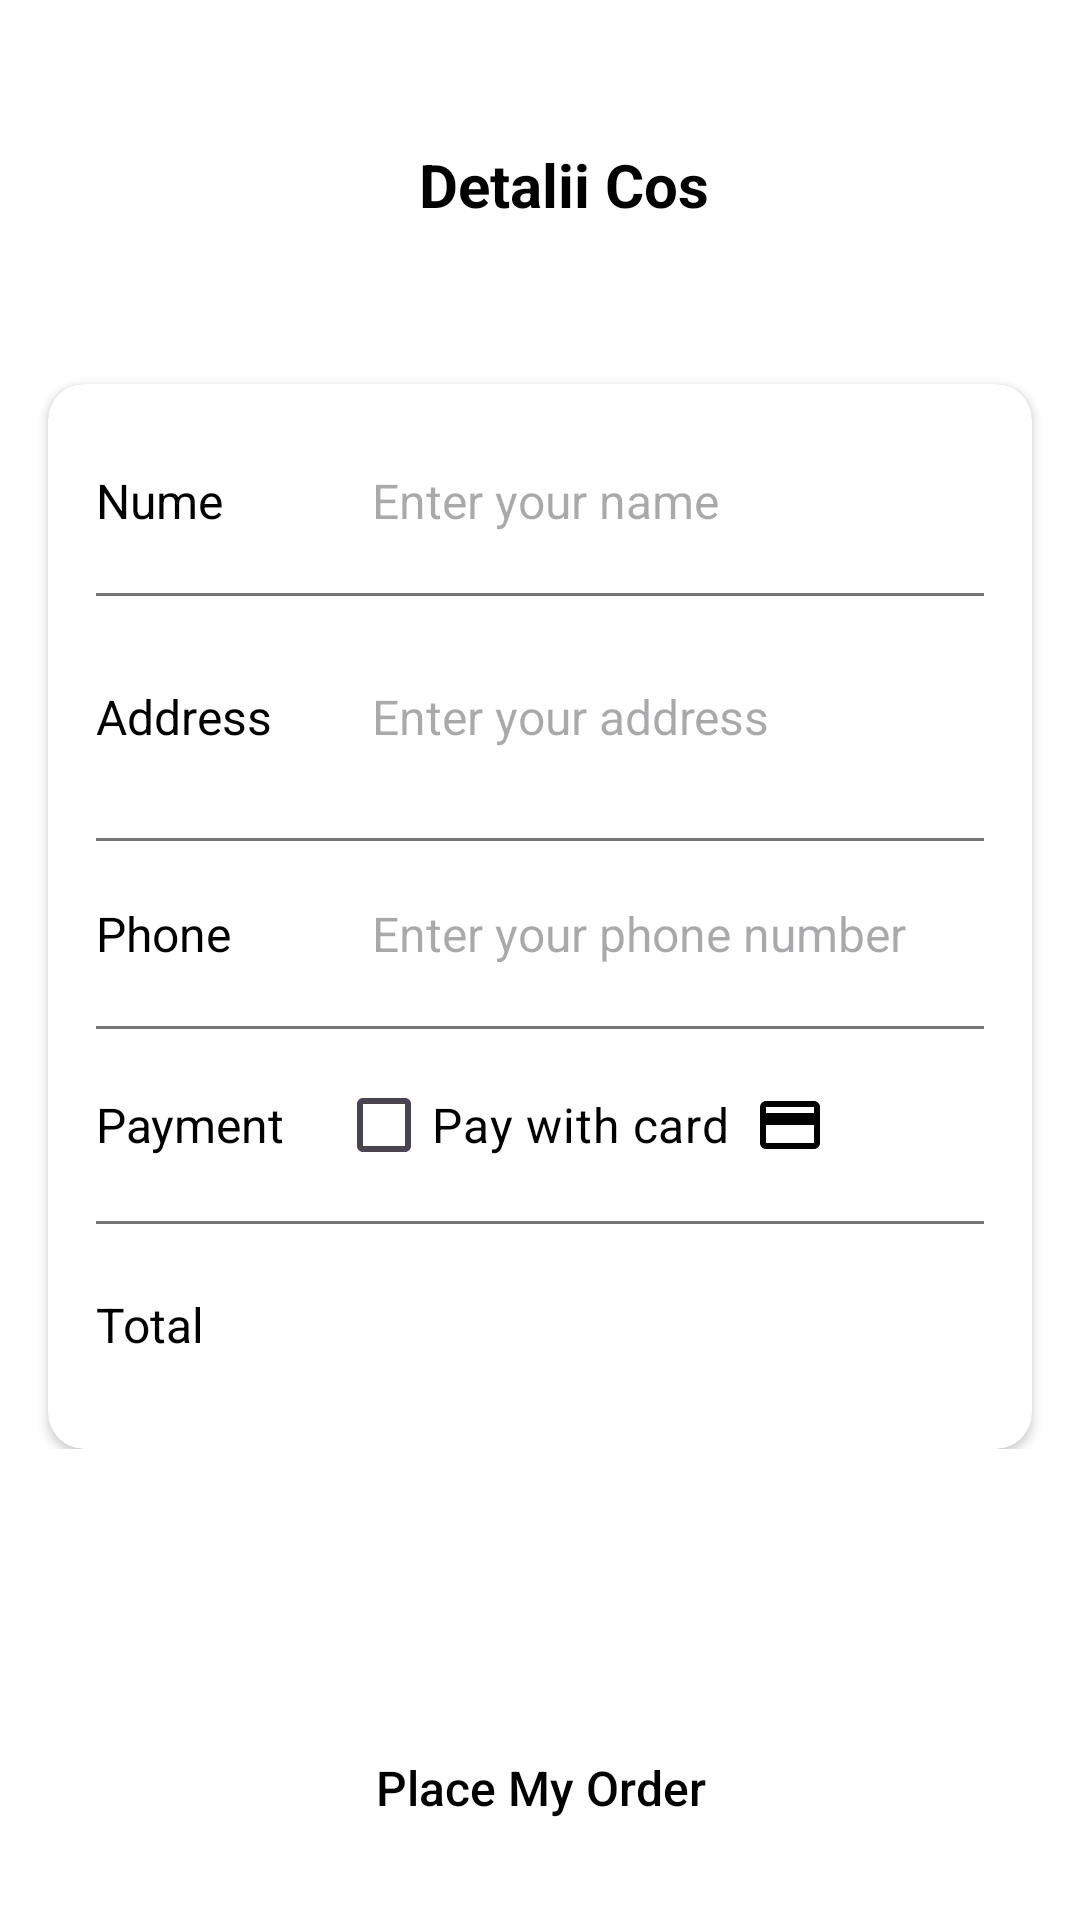

Screen size 1080px x 1920px. Icon name, then its center in pixels as (x,y):
credit card: (790,1125)
